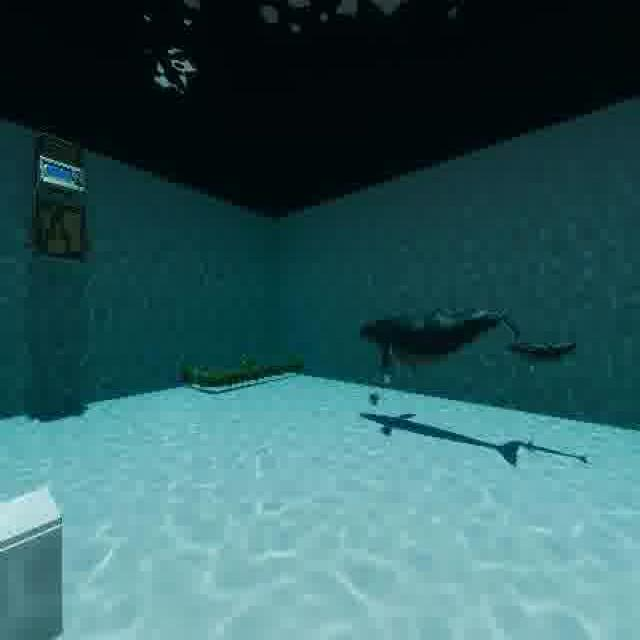Control Panel: (28, 124, 105, 274)
Docking Station: (0, 473, 77, 640)
Pipe: (174, 352, 315, 404)
Whale: (352, 302, 520, 376), (506, 322, 593, 381)
